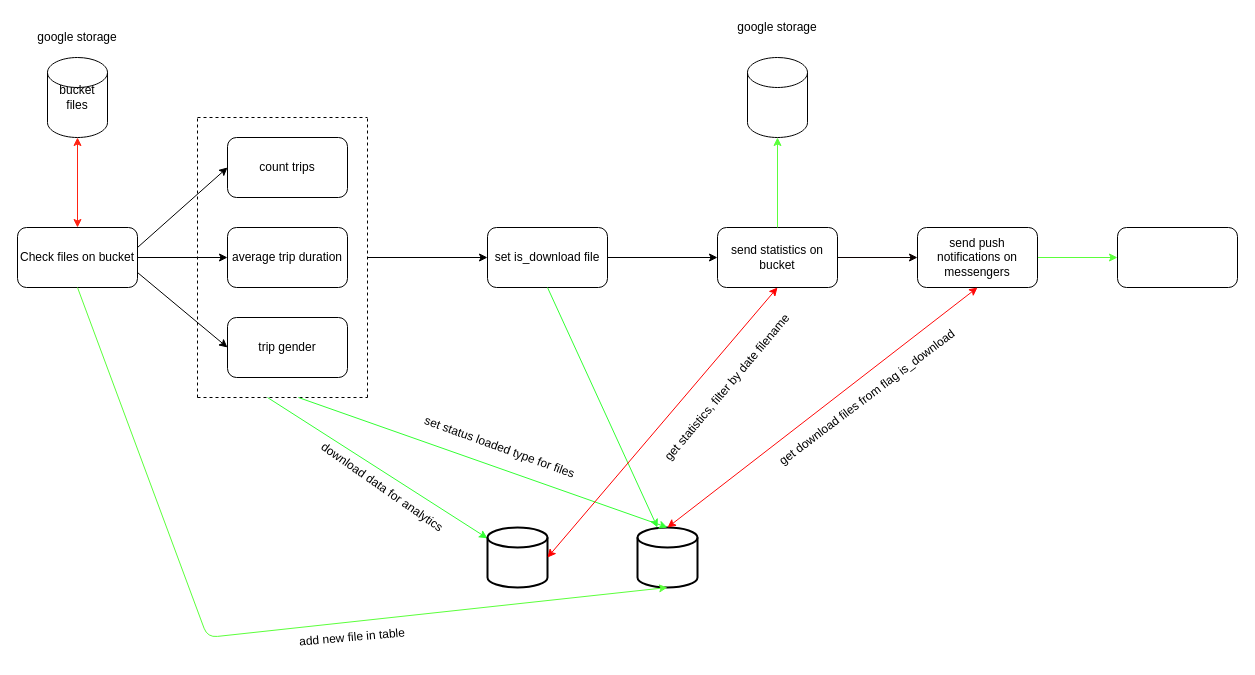
This 1255x675 diagram has some shape labels left out. The centre of each missing label's shape, as x and y in pixels:
"bucket statistics" belongs at (777,97).
"clickhouse" belongs at (517,557).
"psql" belongs at (667,557).
"remove download files in path" belongs at (1177,257).
